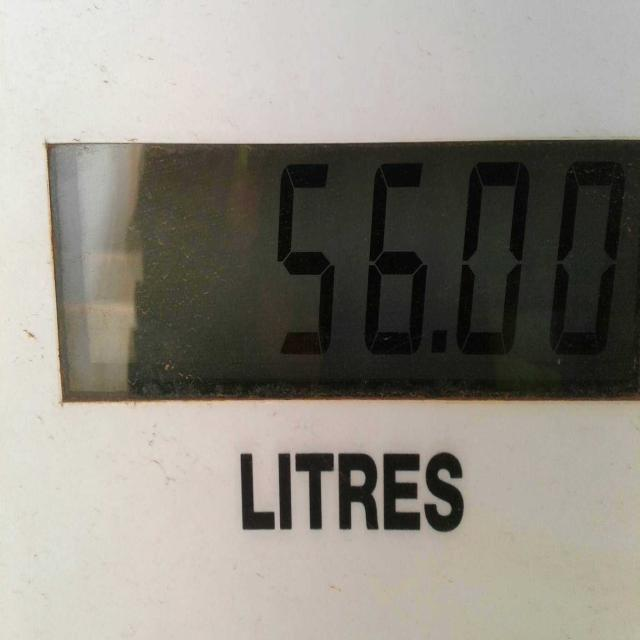.: (423, 308, 460, 382)
0: (449, 156, 543, 378), (550, 144, 640, 370)
5: (262, 158, 347, 358)
6: (353, 146, 438, 370)
